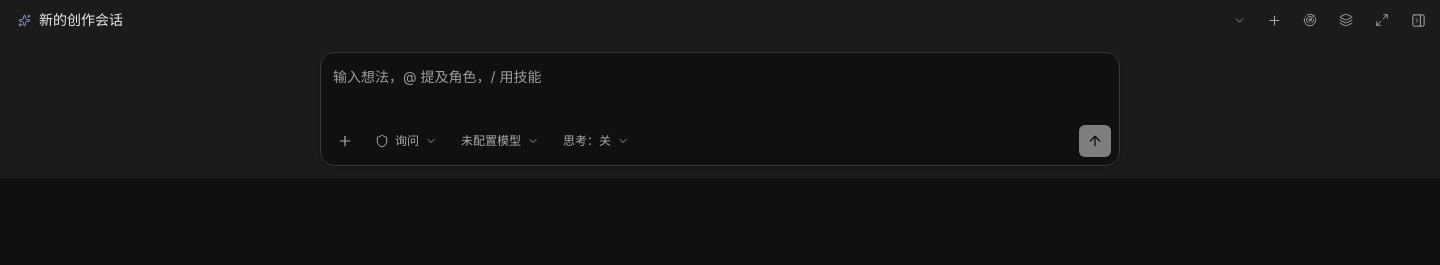
后台索引加载不制造空态，主动打开后才展示真实读取状态
Click the button named "添加上下文" at (345, 141), box [329,125,361,157]
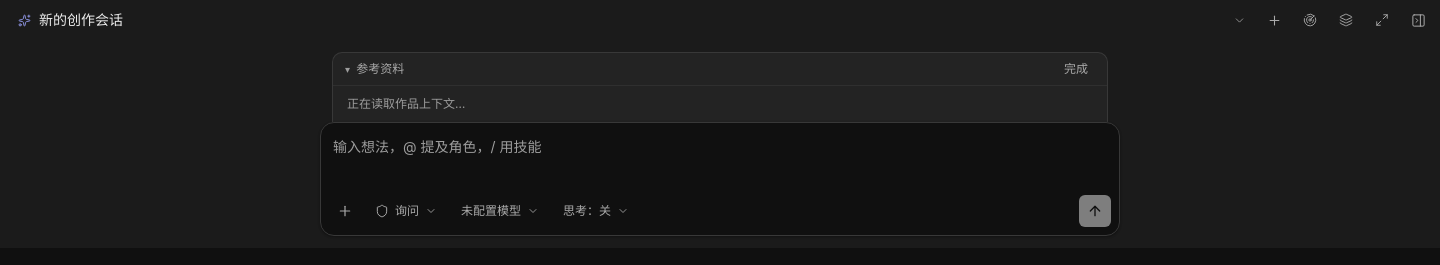
Check: the text "正在读取作品上下文…" is shown, box [347,96,465,111]
